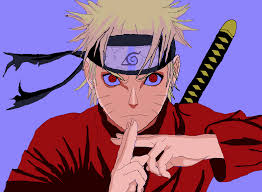Naruto: (80, 2, 181, 135)
